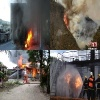fire: (18, 55, 45, 77), (25, 29, 34, 49), (63, 11, 70, 30), (64, 72, 72, 85), (75, 76, 82, 89)
